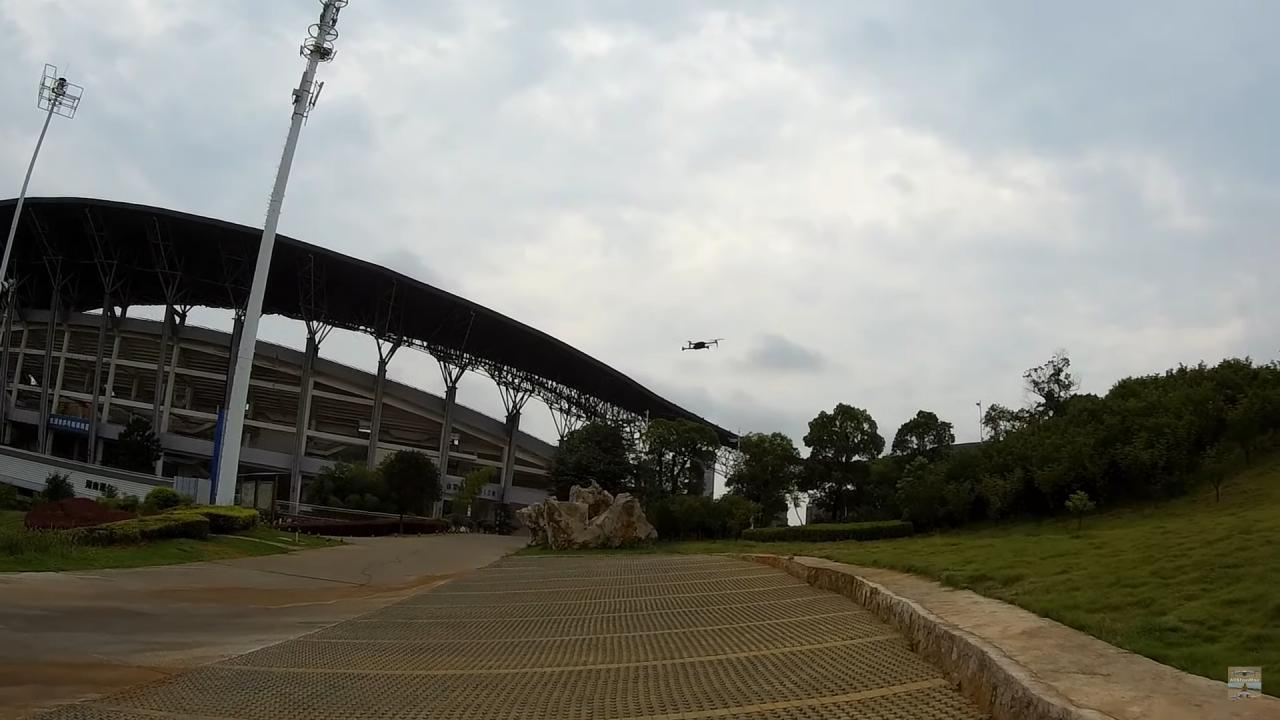Drone: (673, 332, 730, 358)
